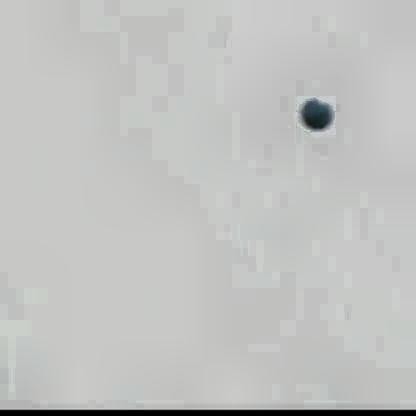golfball: (298, 96, 329, 127)
